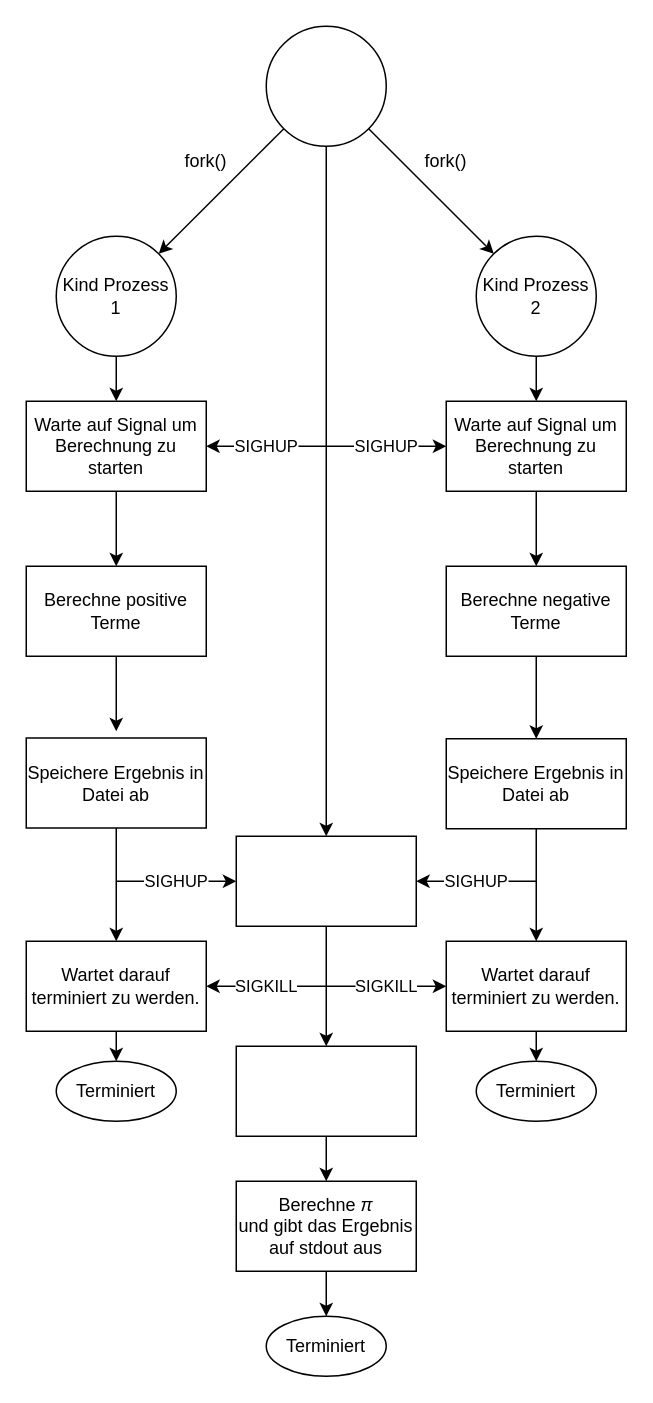
Image size: 653x1403. Some labels were removed from this diagram. The shapes that lost their labels are listed below. From the top down, each one's centre as x and y in pixels, then its label:
At (x=325, y=85): "Eltern Prozess".
At (x=325, y=880): "Warte auf SIgnal von allen Kindprozessen, dass sie fertig sind".
At (x=325, y=1090): "Lese Teilergebnisse aus Dateien aus".
